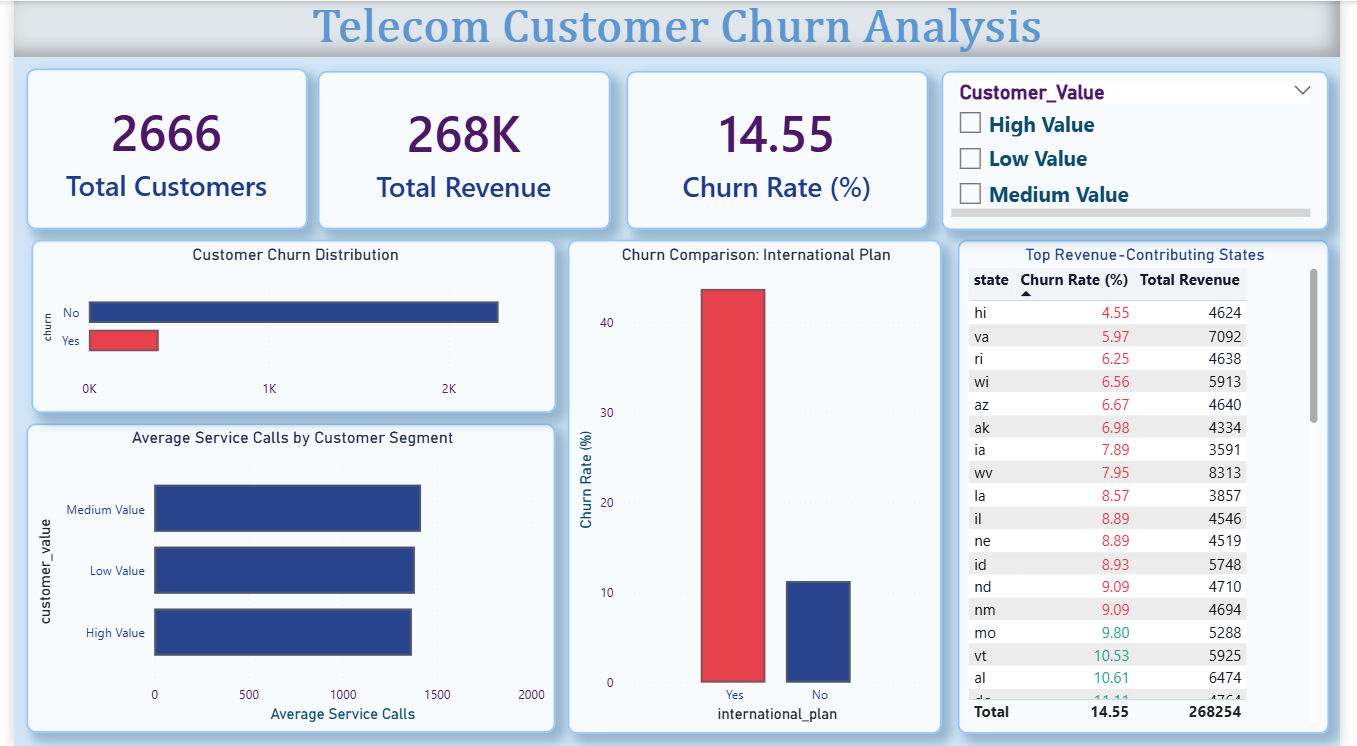

Layout of this report page (visuals, bound fields, positions):
{"tool":"powerbi","page":{"name":"Page 1","canvas":[1280,720],"ordinal":0},"visuals":[{"type":"textbox","title":"Telecom Customer Churn Analysis ","box":[0,0,1280.3,54.2],"z":0},{"type":"card","fields":{"Values":["telecom_final.Total Customers"]},"box":[12.6,65.5,270.9,155],"z":1000},{"type":"card","fields":{"Values":["telecom_final.Total Revenue"]},"box":[293.6,68,282.3,152.5],"z":2000},{"type":"card","fields":{"Values":["telecom_final.Churn Rate (%)"]},"box":[591,68,291.1,152.5],"z":3000},{"type":"tableEx","title":"Top Revenue-Contributing States","fields":{"Values":["telecom_final.state","telecom_final.Churn Rate (%)","telecom_final.Total Revenue"]},"box":[910.9,230.4,358.3,476.5],"z":4000},{"type":"slicer","fields":{"Values":["telecom_final.customer_value"]},"box":[895.2,67.6,374,153.2],"z":5000},{"type":"barChart","title":"Average Service Calls by Customer Segment","fields":{"Y":["Sum(telecom_final.customer_service_calls)"],"Category":["telecom_final.customer_value"]},"box":[12.6,408.3,510.3,298.6],"z":6000},{"type":"clusteredBarChart","title":"Customer Churn Distribution","fields":{"Y":["CountNonNull(telecom_final.customer_value)"],"Category":["telecom_final.churn"]},"box":[16.4,230.6,506.6,167.6],"z":7000},{"type":"columnChart","title":"Churn Comparison: International Plan","fields":{"Y":["telecom_final.Churn Rate (%)"],"Category":["telecom_final.international_plan"]},"box":[534.5,230.4,360.7,476.5],"z":8000}]}

Visuals, with their boxes in screenshot pixels (x1, y1, x2, y2), scaled from the page's 1280x720 canvas onto the 1357x746 screenshot:
"Telecom Customer Churn Analysis " textbox: <region>0, 0, 1356, 56</region>
card - telecom_final.Total Customers: <region>13, 68, 301, 228</region>
card - telecom_final.Total Revenue: <region>311, 70, 611, 228</region>
card - telecom_final.Churn Rate (%): <region>627, 70, 935, 228</region>
"Top Revenue-Contributing States" tableEx: <region>966, 239, 1346, 732</region>
slicer - telecom_final.customer_value: <region>949, 70, 1346, 229</region>
"Average Service Calls by Customer Segment" barChart: <region>13, 423, 554, 732</region>
"Customer Churn Distribution" clusteredBarChart: <region>17, 239, 554, 413</region>
"Churn Comparison: International Plan" columnChart: <region>567, 239, 949, 732</region>
